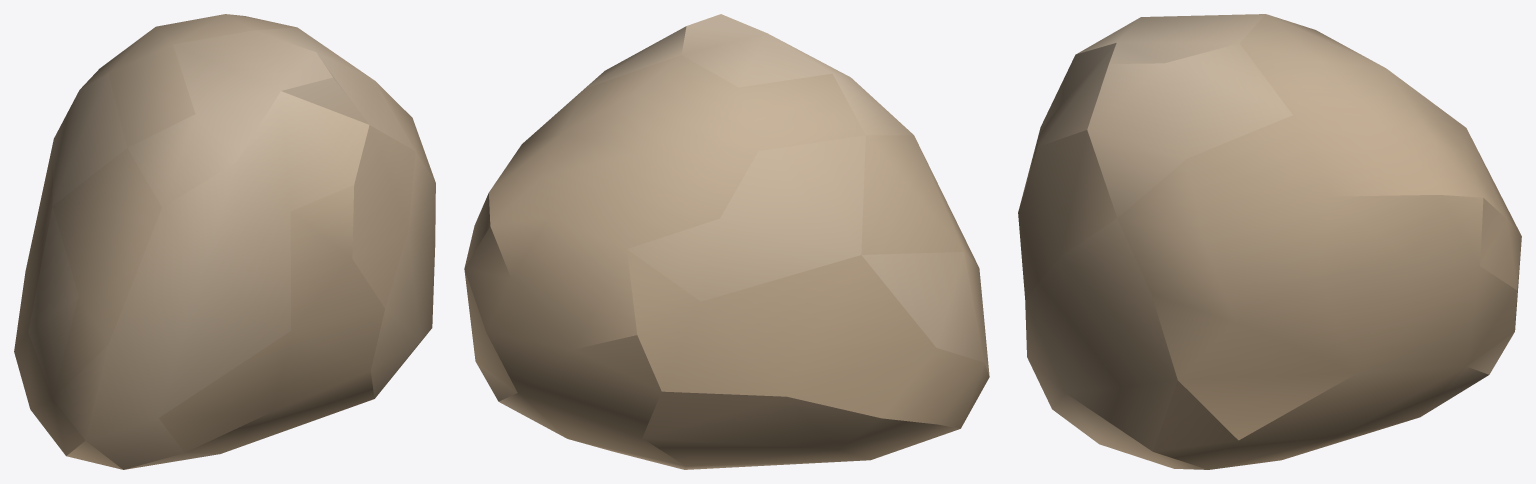
Rendered from Rock_3_L_Color7.fbx.
The picture shows the model from 3 angles, left to right: view 1: azimuth 30°, elevation 25°; view 2: azimuth 150°, elevation 25°; view 3: azimuth 270°, elevation 25°; orthographic projection. The views are drawn at different scales.
Parts seen in each view (by area): view 1: Rock_3_L_Color7; view 2: Rock_3_L_Color7; view 3: Rock_3_L_Color7.
Part boxes in pixels (x1,y1,x2,y2): Rock_3_L_Color7: [14, 14, 435, 469]; Rock_3_L_Color7: [464, 14, 989, 469]; Rock_3_L_Color7: [1018, 14, 1521, 469].
Size of the model in its own units: 2.62 by 2.27 by 2.56.
